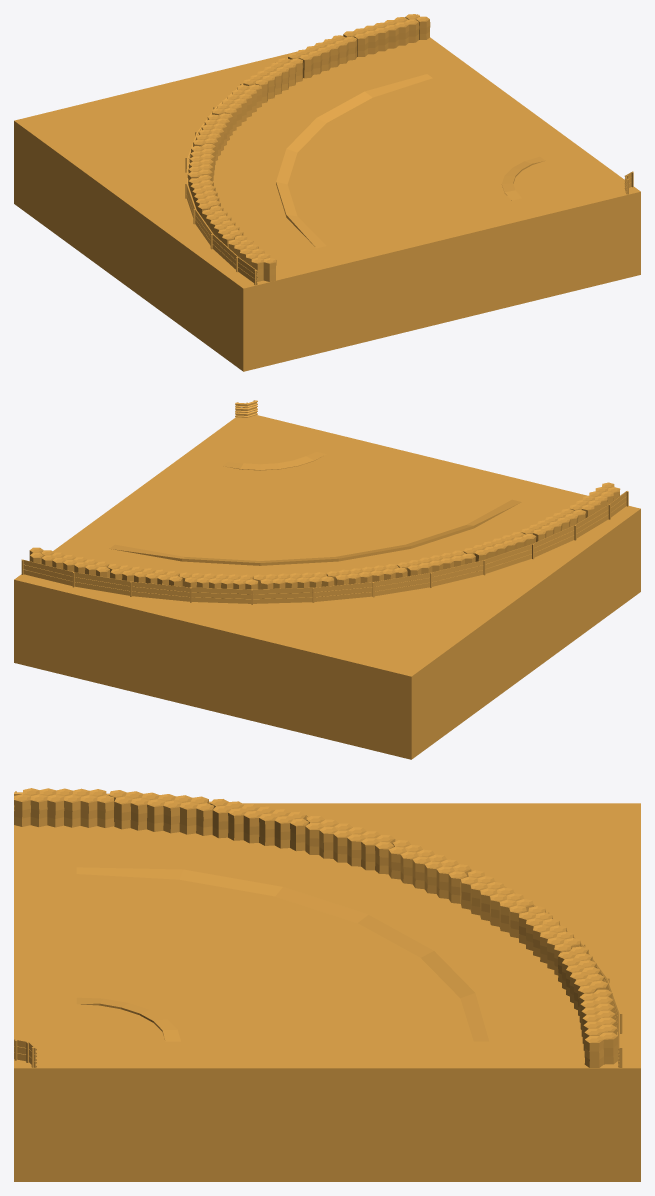
File: tile-hill-askew-valley-corner.fbx
The picture shows the model from 3 angles, top to bottom: view 1: azimuth 30°, elevation 25°; view 2: azimuth 150°, elevation 25°; view 3: azimuth 270°, elevation 25°; orthographic projection. The views are drawn at different scales.
Visible parts, largest first — view 1: tile-race-track-curve; view 2: tile-race-track-curve; view 3: tile-race-track-curve.
Part boxes in pixels (x1,y1,x2,y2): tile-race-track-curve: (14,14,640,371); tile-race-track-curve: (14,400,640,759); tile-race-track-curve: (14,788,640,1181).
Size of the model in its own units: 30 by 7.32 by 30.
